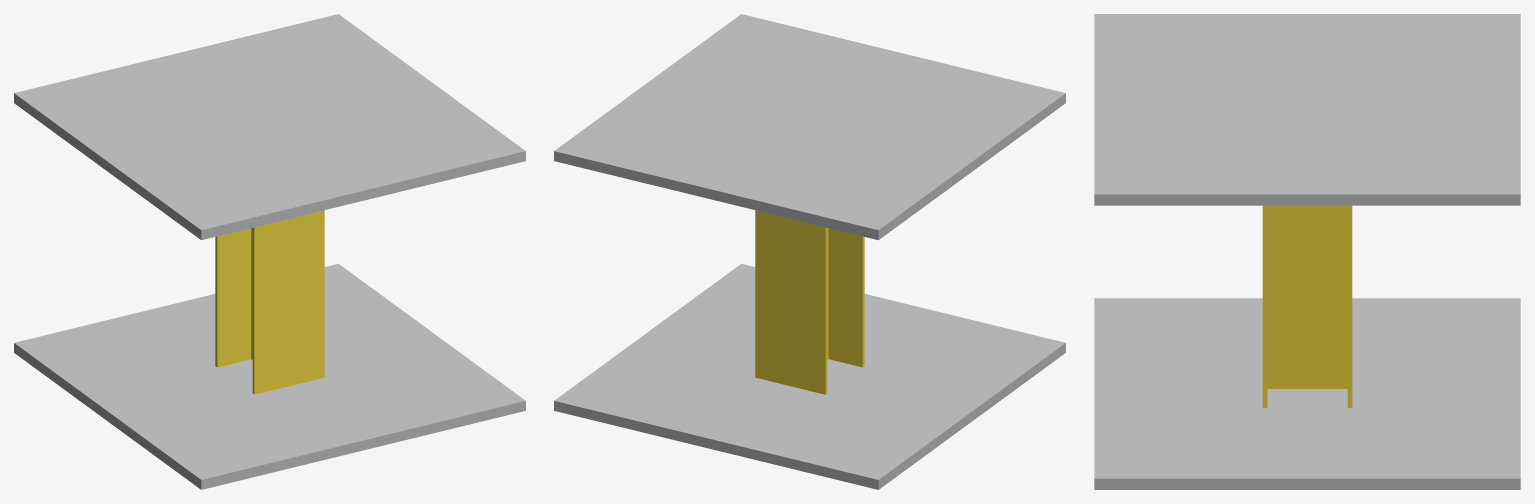
Rendered from tower_beam.glb.
3 views of the same model, side by side, from view 1: azimuth 30°, elevation 25°; view 2: azimuth 150°, elevation 25°; view 3: azimuth 270°, elevation 25° (orthographic). The views are drawn at different scales.
Parts seen in each view (by area): view 1: cap_plate, base_plate, w_section; view 2: cap_plate, base_plate, w_section; view 3: cap_plate, base_plate, w_section.
Part boxes in pixels (bbox=[...]): cap_plate: bbox=[14, 14, 525, 240]; base_plate: bbox=[14, 263, 525, 489]; w_section: bbox=[215, 210, 324, 394]; cap_plate: bbox=[554, 14, 1065, 240]; base_plate: bbox=[554, 263, 1065, 489]; w_section: bbox=[755, 210, 864, 394]; cap_plate: bbox=[1094, 14, 1520, 205]; base_plate: bbox=[1094, 298, 1520, 489]; w_section: bbox=[1262, 205, 1352, 407].
Size of the model in its own units: 1.7 by 1.3 by 1.7.
